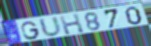0: (124, 6, 144, 26)
7: (103, 8, 120, 30)
8: (84, 12, 102, 31)
G: (20, 20, 42, 40)
H: (58, 13, 86, 36)
U: (38, 15, 64, 38)
